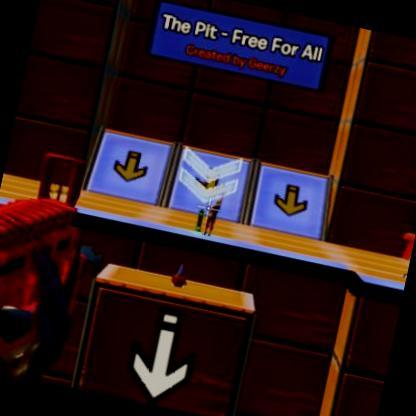person: (206, 196, 222, 232)
